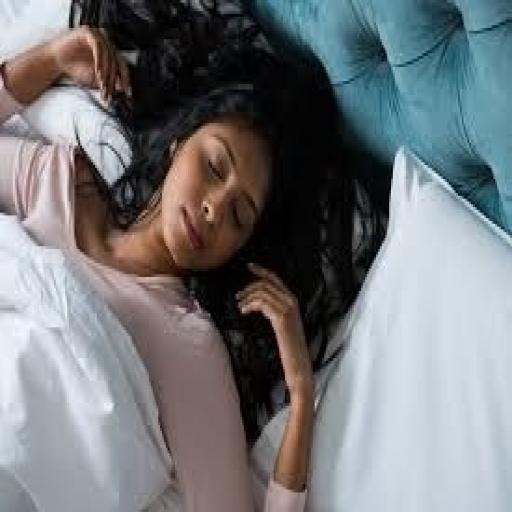sleeping: (0, 3, 380, 509)
